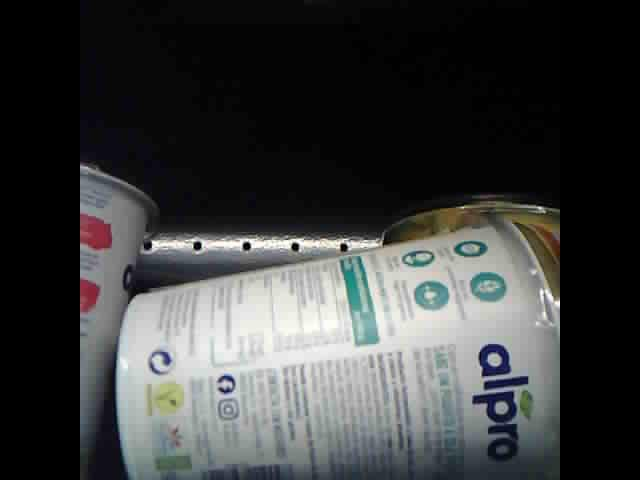alpro: (116, 221, 559, 480), (383, 192, 559, 480), (79, 157, 158, 480)
